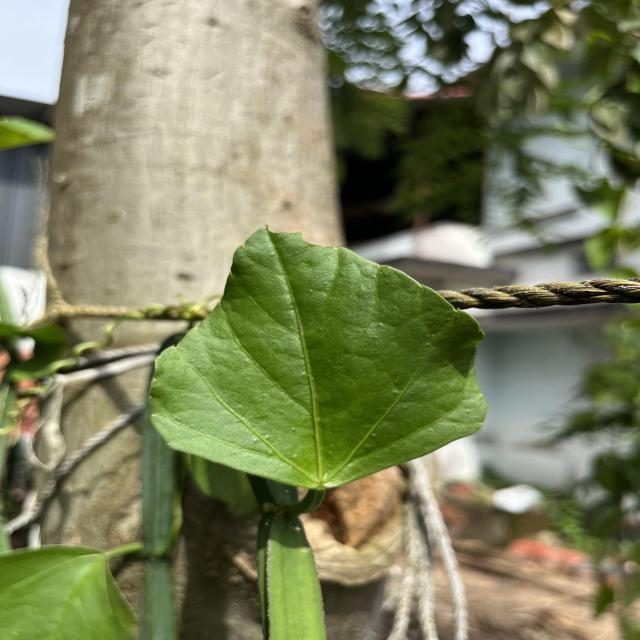Cissus quadrangularis: (145, 221, 492, 493)
